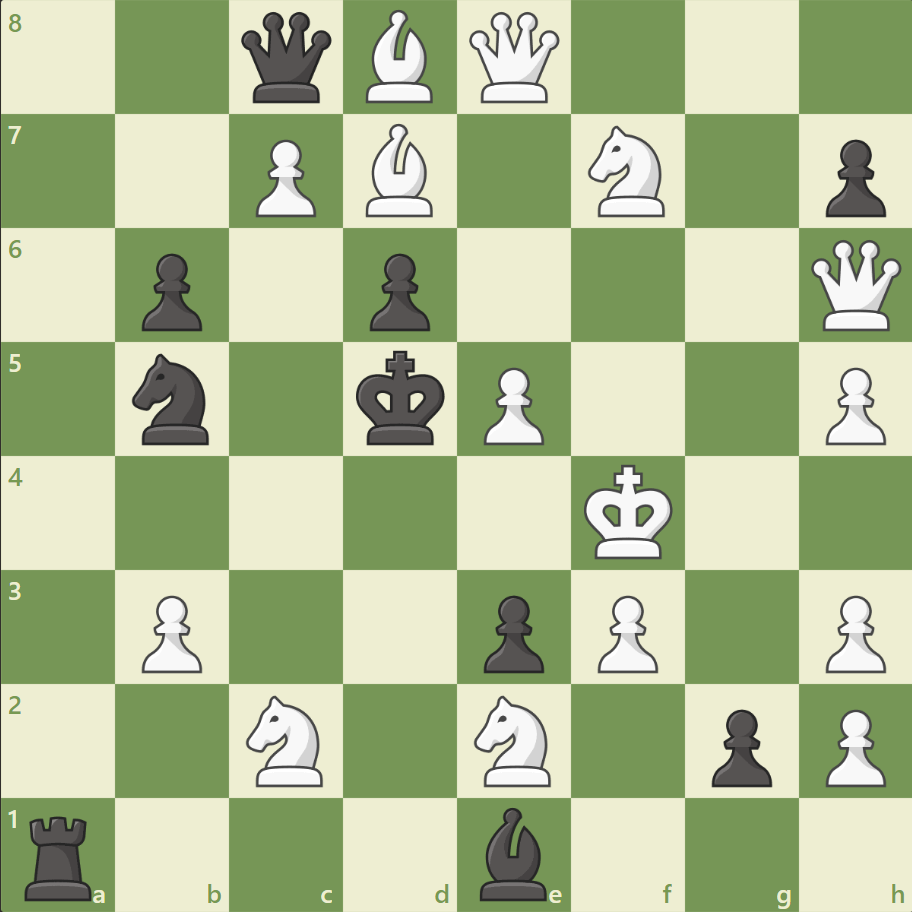B: (358, 6, 442, 109), (358, 120, 442, 222)
K: (579, 458, 679, 566)
N: (238, 688, 335, 791), (465, 688, 562, 791), (579, 121, 676, 223)
P: (247, 132, 322, 223), (474, 359, 549, 450), (133, 586, 208, 677), (815, 359, 889, 450), (588, 586, 662, 677), (815, 586, 889, 677), (815, 700, 889, 791)
Q: (464, 9, 563, 108), (805, 236, 904, 335)
b: (471, 801, 555, 904)
k: (351, 344, 451, 452)
n: (124, 348, 222, 450)
p: (133, 246, 208, 337), (474, 586, 549, 677), (701, 700, 776, 791), (815, 132, 889, 223), (361, 246, 435, 337)
q: (237, 9, 336, 108)
r: (19, 806, 102, 904)
